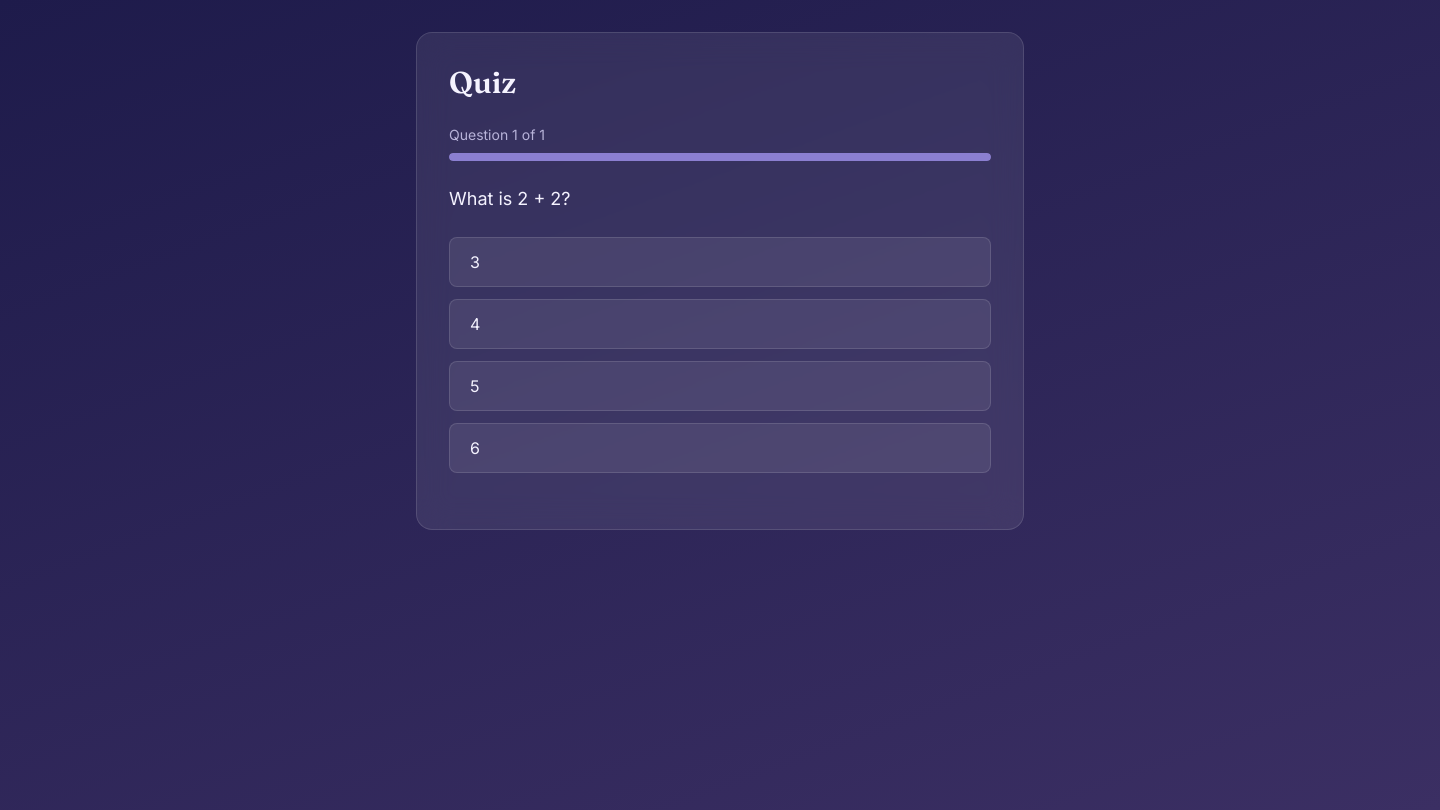
Test case: QuizPage › shows 'Not quite' feedback when the wrong answer is selected
Expected: the text "What is 2 + 2?" is shown, [449,188,571,209]
Click the button "3".
click(475, 262)  # box [449,237,991,287]
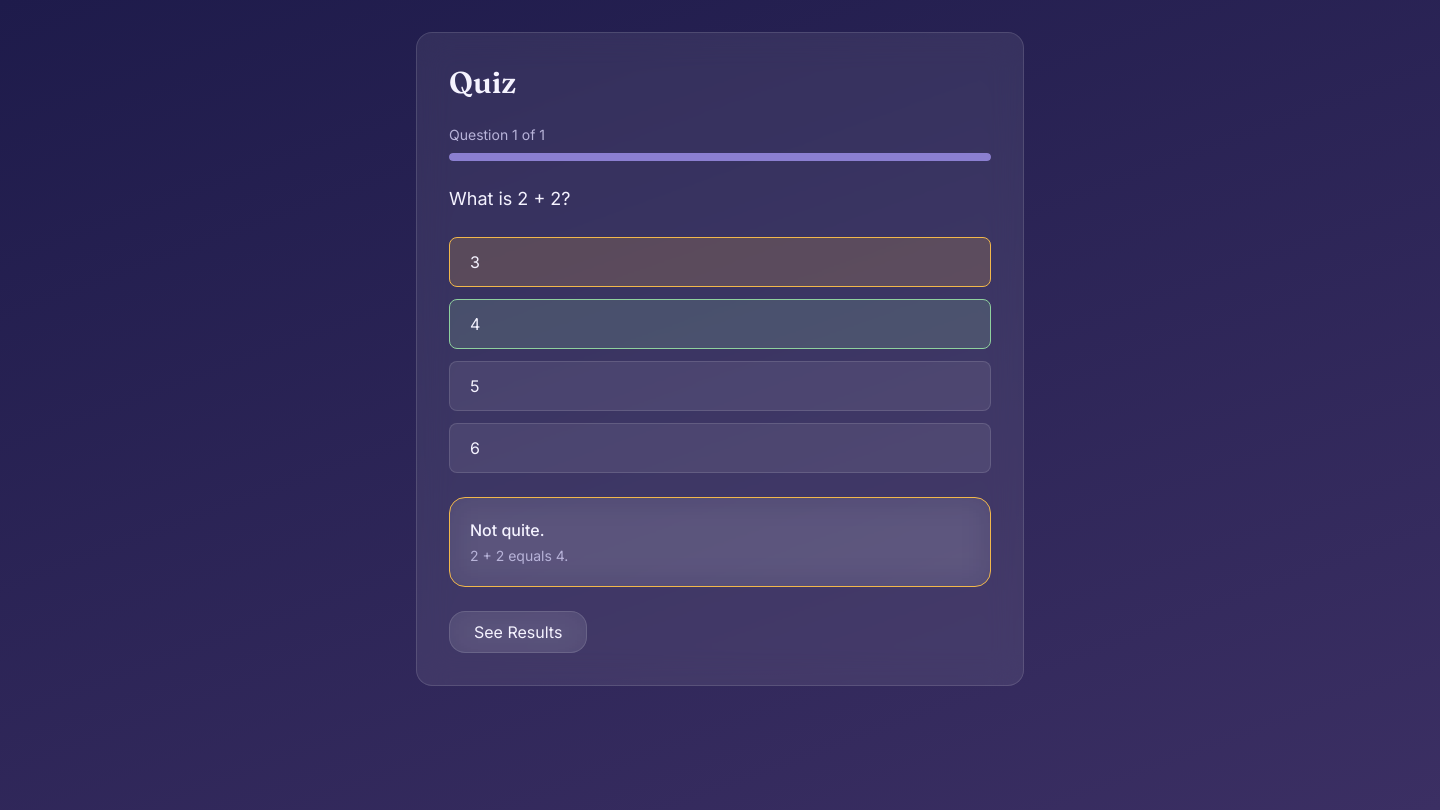
Expected: the text "Not quite." is shown, [470,520,545,540]
